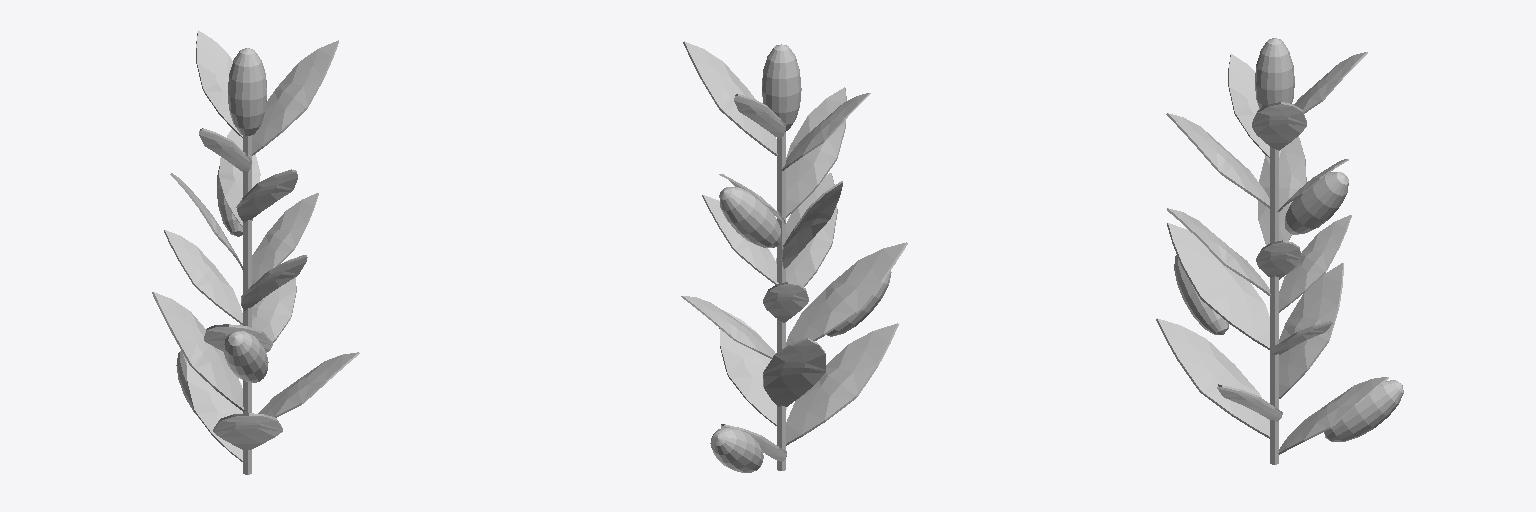
Rendered from cornStalk.obj.
3 renders of one model, left to right at view 1: azimuth 30°, elevation 25°; view 2: azimuth 150°, elevation 25°; view 3: azimuth 270°, elevation 25°, orthographic.
Parts seen in each view (by area): view 1: CornStalk; view 2: CornStalk; view 3: CornStalk.
Part boxes in pixels (bbox=[...]): CornStalk: bbox=[152, 30, 359, 474]; CornStalk: bbox=[681, 41, 907, 472]; CornStalk: bbox=[1156, 38, 1403, 464].
Bounding box in the file's own units: 9.63 × 23.23 × 12.3.